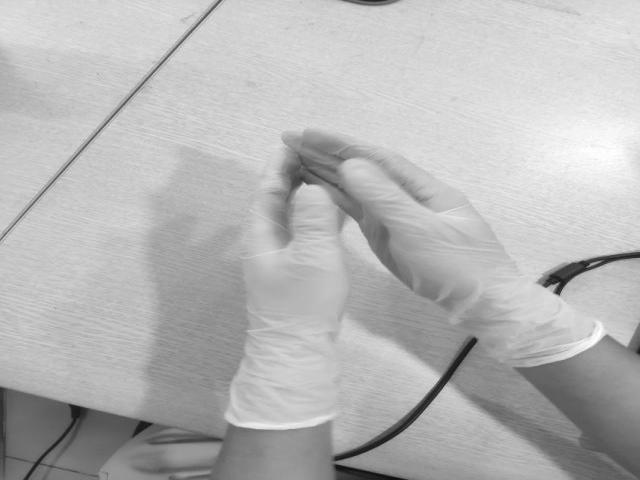gloved: (284, 127, 538, 314), (240, 141, 355, 354)
